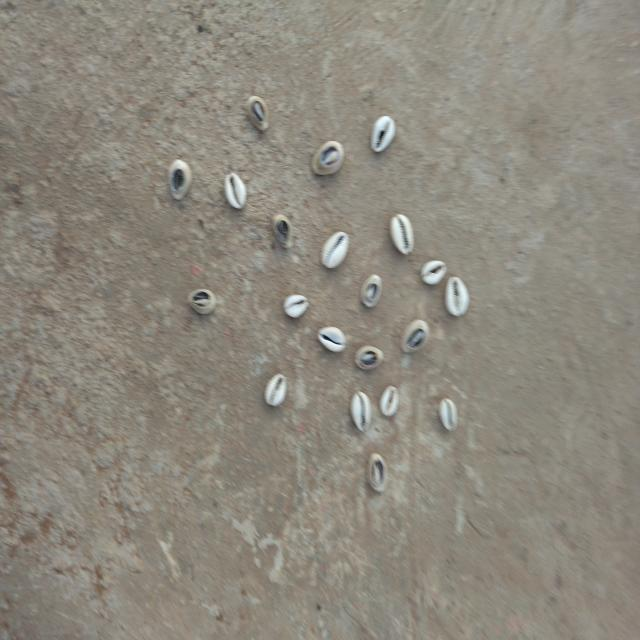facedown: (364, 444, 396, 503), (308, 138, 347, 180), (265, 209, 300, 253), (163, 156, 195, 204), (183, 284, 220, 322), (398, 319, 435, 357), (245, 89, 273, 134), (351, 342, 386, 378), (358, 274, 388, 314)
faceup: (386, 210, 422, 262), (366, 112, 402, 159), (318, 230, 354, 274), (431, 390, 464, 437), (440, 276, 475, 320), (258, 370, 296, 409), (347, 385, 375, 435), (374, 378, 403, 423), (222, 170, 252, 212), (314, 323, 352, 356), (278, 289, 313, 324), (422, 253, 448, 287)
